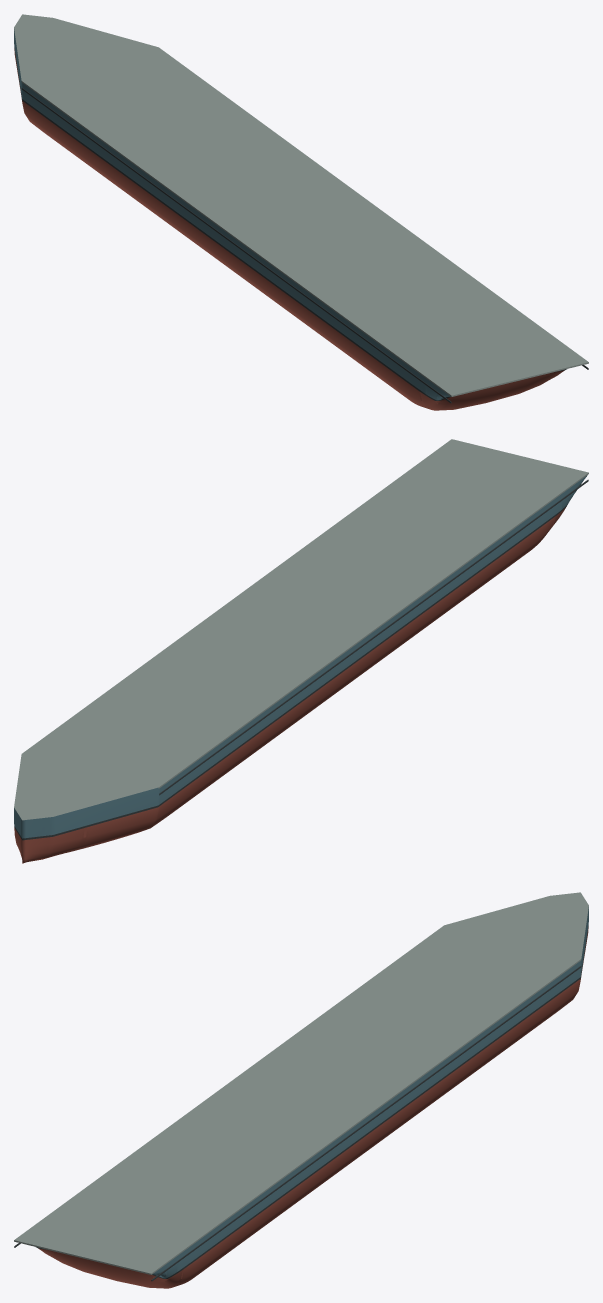
File: hull_88x14.glb
3 views of the same model, one above another, from view 1: azimuth 30°, elevation 25°; view 2: azimuth 150°, elevation 25°; view 3: azimuth 330°, elevation 25° (orthographic).
Visible parts, largest first — view 1: Continuous load deck, Feeder formed shell, Foredeck, Side rubbing strake; view 2: Continuous load deck, Feeder formed shell, Foredeck, Side rubbing strake; view 3: Continuous load deck, Feeder formed shell, Foredeck, Side rubbing strake.001.
Part boxes in pixels (bbox=[...]): Continuous load deck: bbox=[21, 47, 588, 396]; Feeder formed shell: bbox=[14, 29, 566, 410]; Foredeck: bbox=[14, 14, 157, 80]; Side rubbing strake: bbox=[21, 88, 451, 403]; Continuous load deck: bbox=[22, 439, 588, 788]; Feeder formed shell: bbox=[14, 475, 587, 863]; Foredeck: bbox=[14, 754, 158, 820]; Side rubbing strake: bbox=[159, 479, 588, 795]; Continuous load deck: bbox=[14, 925, 581, 1274]; Feeder formed shell: bbox=[36, 907, 588, 1288]; Foredeck: bbox=[445, 892, 588, 958]; Side rubbing strake.001: bbox=[151, 966, 581, 1281].
Size of the model in its own units: 14.08 by 5.44 by 88.
